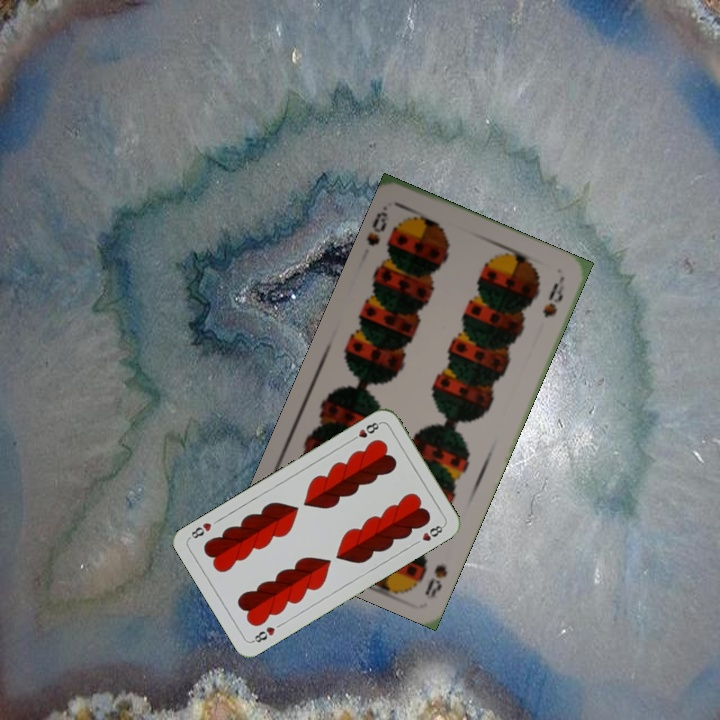H8: (347, 418, 384, 444), (248, 623, 278, 645)
S8: (362, 201, 391, 249), (420, 560, 450, 601)
